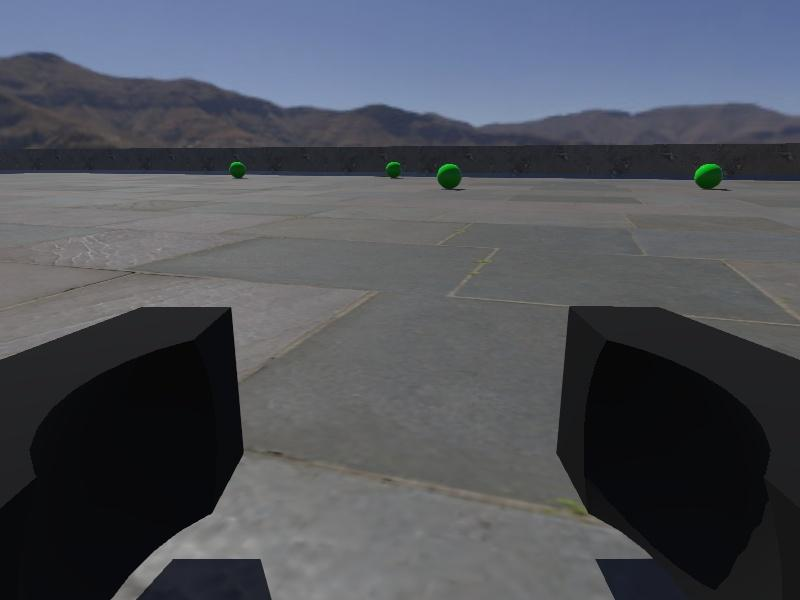green ball: (694, 162, 724, 191), (436, 162, 463, 191), (228, 162, 247, 179), (385, 161, 403, 178)
